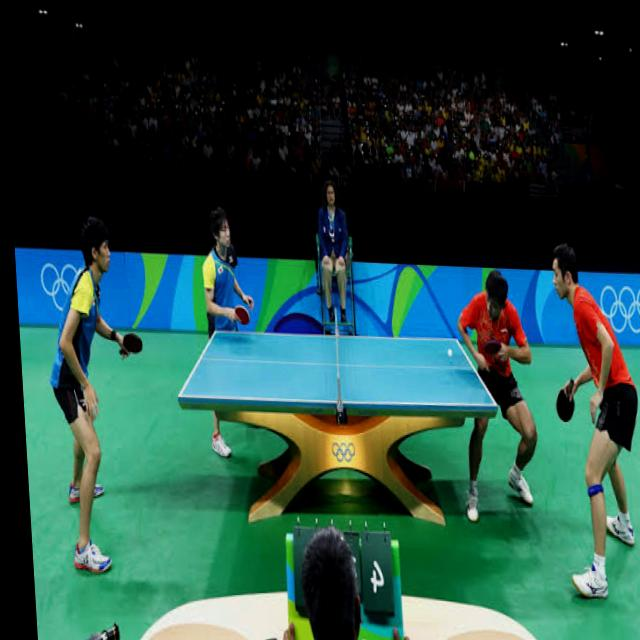TT Net: (332, 301, 344, 417)
TT Racket: (552, 383, 578, 435), (119, 328, 149, 361), (231, 300, 253, 327), (482, 333, 504, 359)
TT Table: (178, 331, 496, 407)
